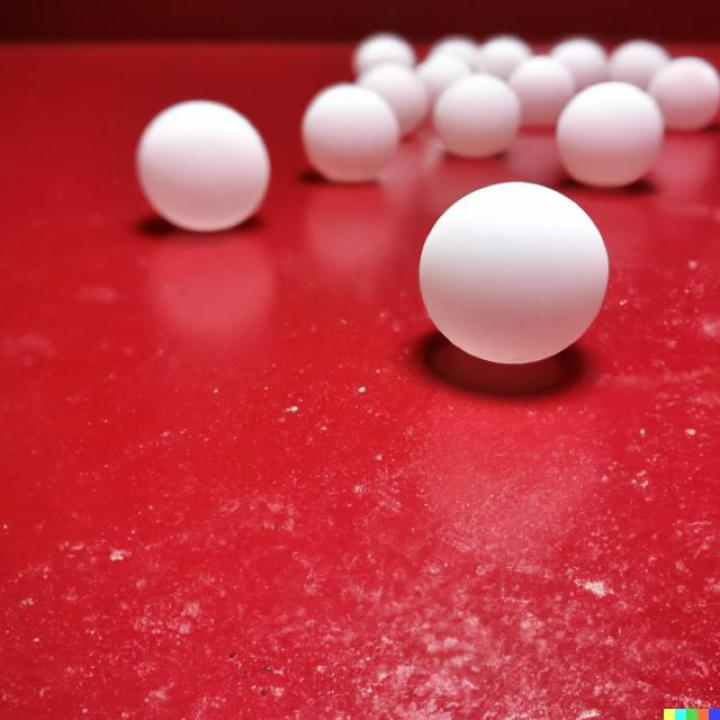white: (418, 182, 609, 366), (135, 99, 271, 234), (556, 82, 664, 188), (302, 84, 400, 184), (435, 75, 520, 159), (357, 63, 429, 137), (649, 58, 720, 130), (508, 56, 575, 126), (610, 40, 670, 92), (357, 34, 416, 74)
